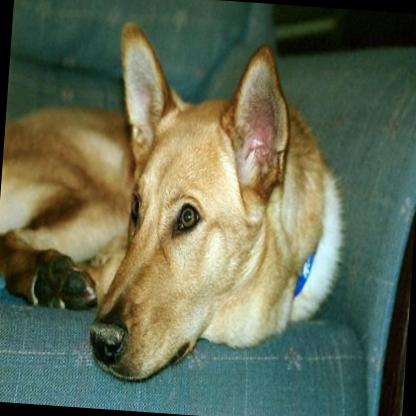dingo: (0, 17, 357, 394)
